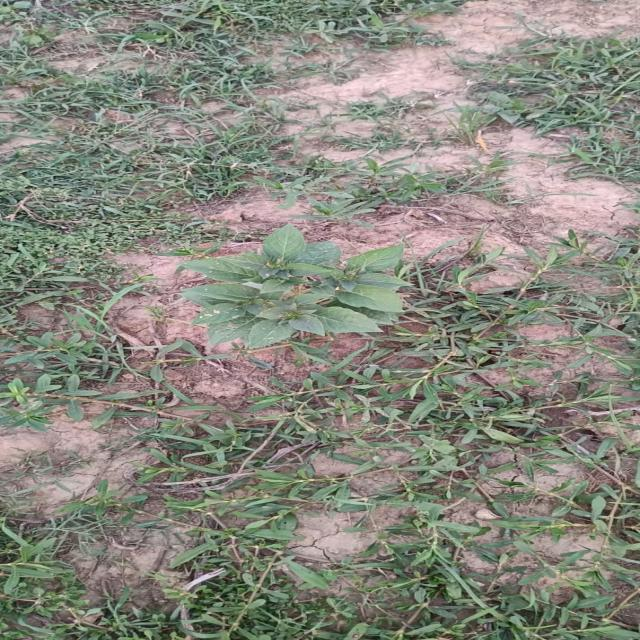plant: (180, 225, 407, 348)
